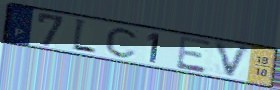1: (146, 32, 160, 64)
7: (36, 10, 67, 49)
C: (104, 26, 142, 59)
E: (176, 34, 214, 75)
L: (70, 16, 98, 56)
V: (212, 39, 253, 81)
